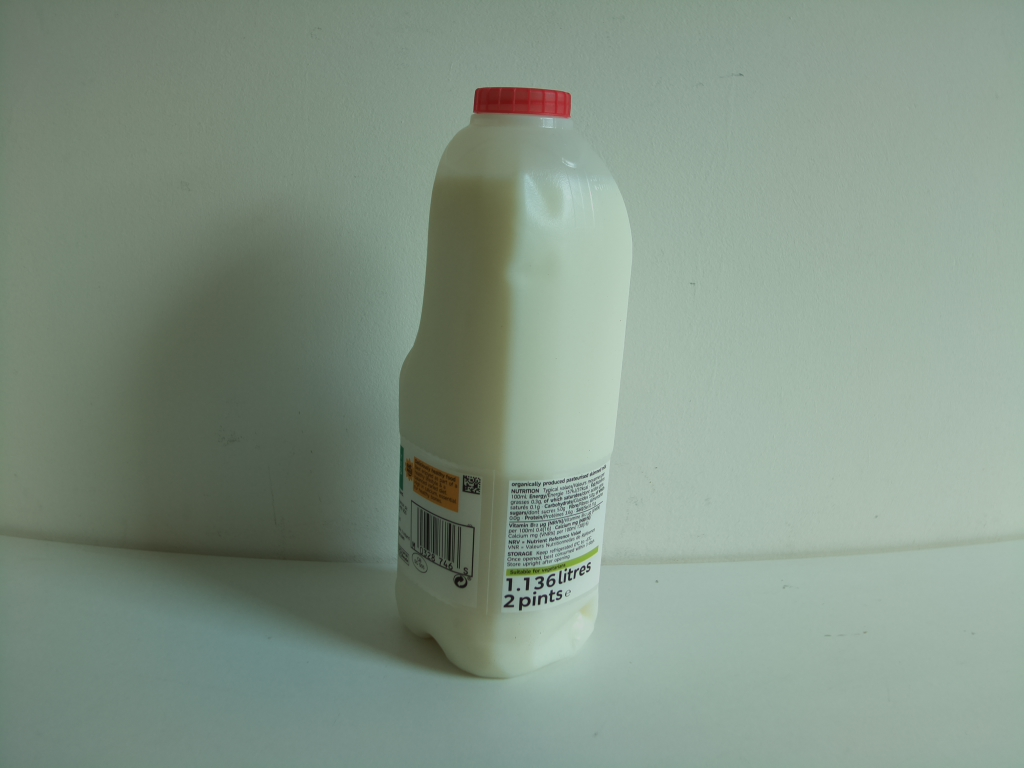milk: (394, 82, 640, 675)
